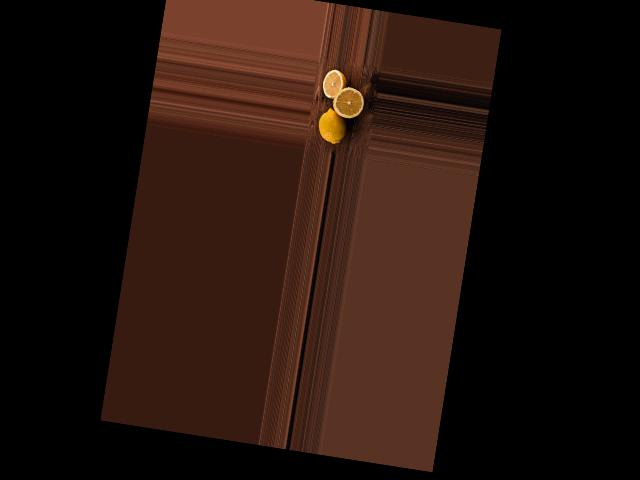lemon: (312, 105, 350, 144)
